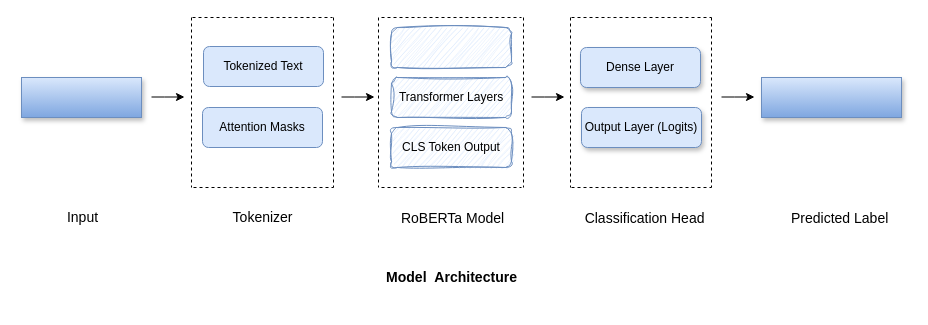
This 928x325 diagram has some shape labels left out. The shapes that lost their labels are listed below. From the top down, each one's centre as x and y in pixels, then its label:
At pixel 451 47: "Embedding Layer".
At pixel 82 98: "Movie Review".
At pixel 832 98: "Sarcastic / Not Sarcastic".
